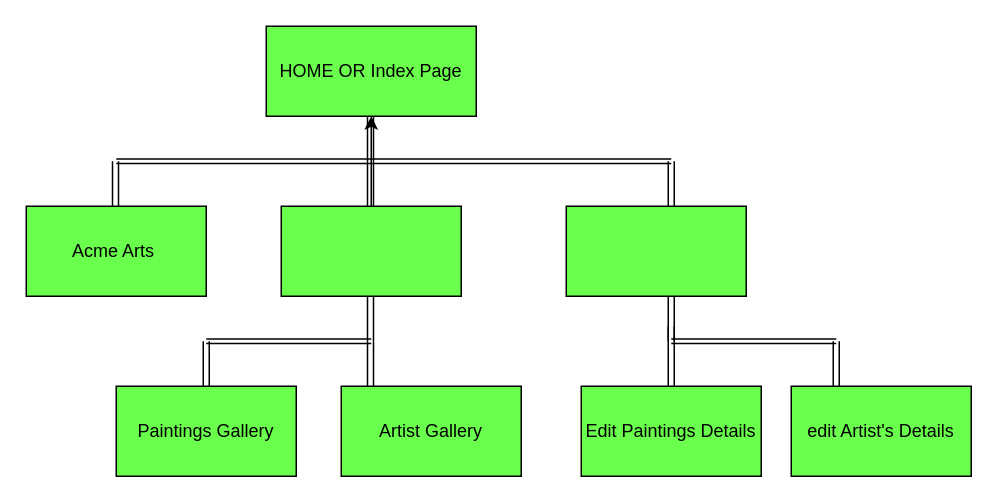
Some shapes in this 998 by 503 pixel diagram are drawn without their labels. Each missing label, with the centre of its shape:
Admin: (x=655, y=250)
Display: (x=370, y=250)
